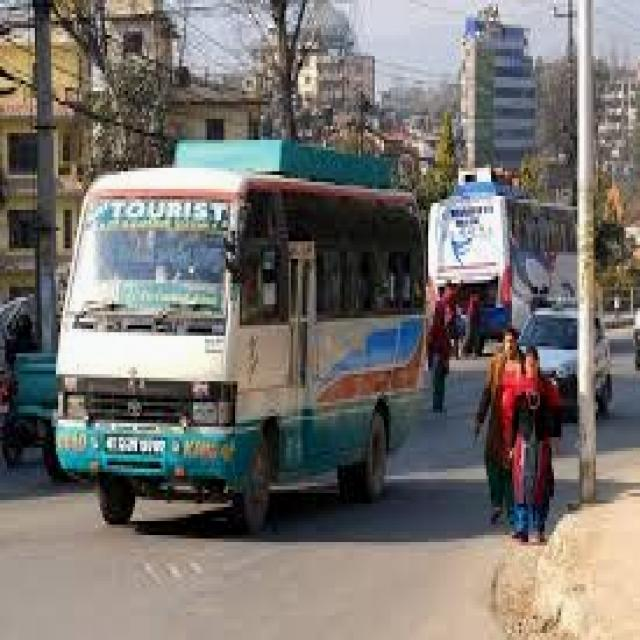bus: (26, 118, 427, 534), (430, 162, 594, 317)
